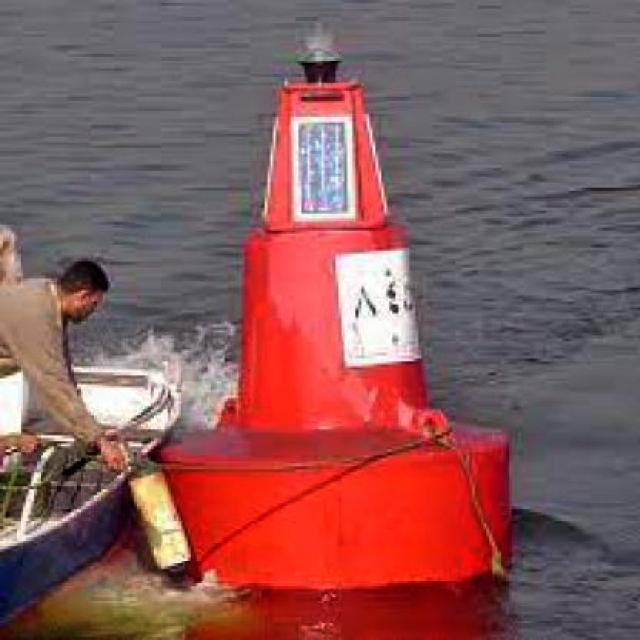no-oil: (32, 31, 640, 274)
